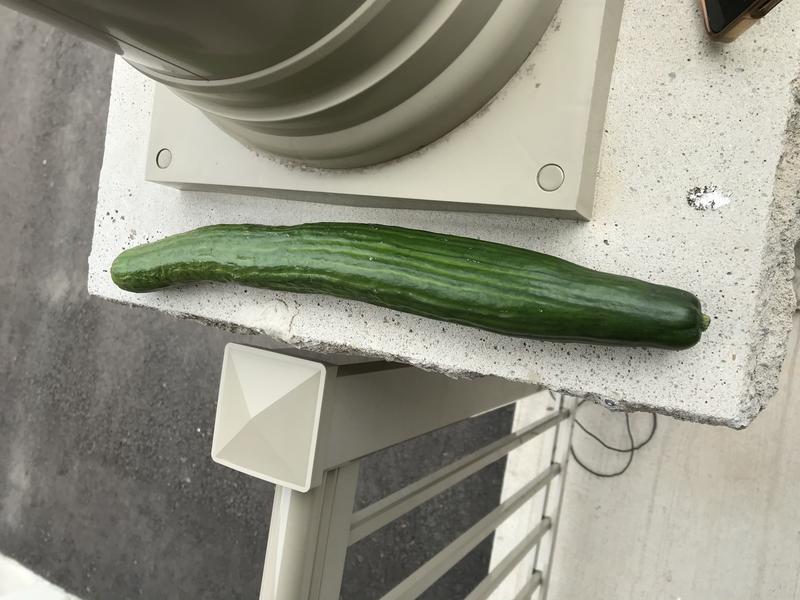cucumber: (101, 217, 722, 367)
